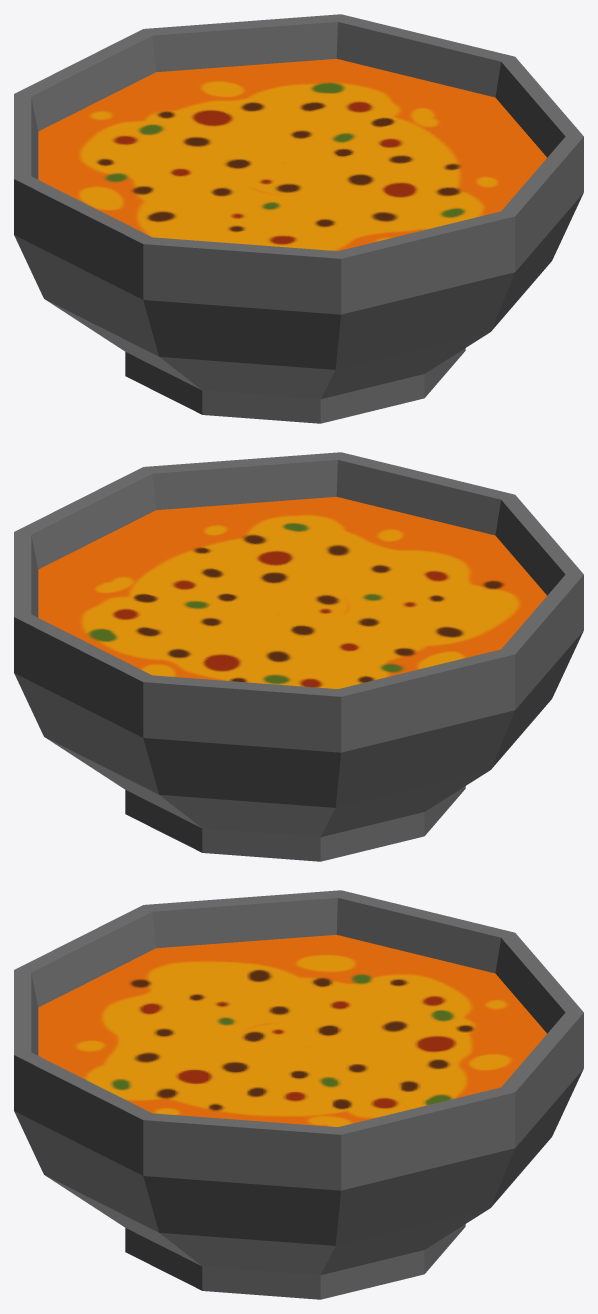
Rendered from Soup4.fbx.
3 renders of one model, top to bottom at view 1: azimuth 30°, elevation 25°; view 2: azimuth 150°, elevation 25°; view 3: azimuth 270°, elevation 25°, orthographic.
Visible parts, largest first — view 1: Cylinder; view 2: Cylinder; view 3: Cylinder.
Part boxes in pixels (x1,y1,x2,y2): Cylinder: (14,14,583,423); Cylinder: (14,452,583,861); Cylinder: (14,890,583,1299).
Size of the model in its own units: 273 by 111 by 269.
Materials: 1 (1 with a texture image).
